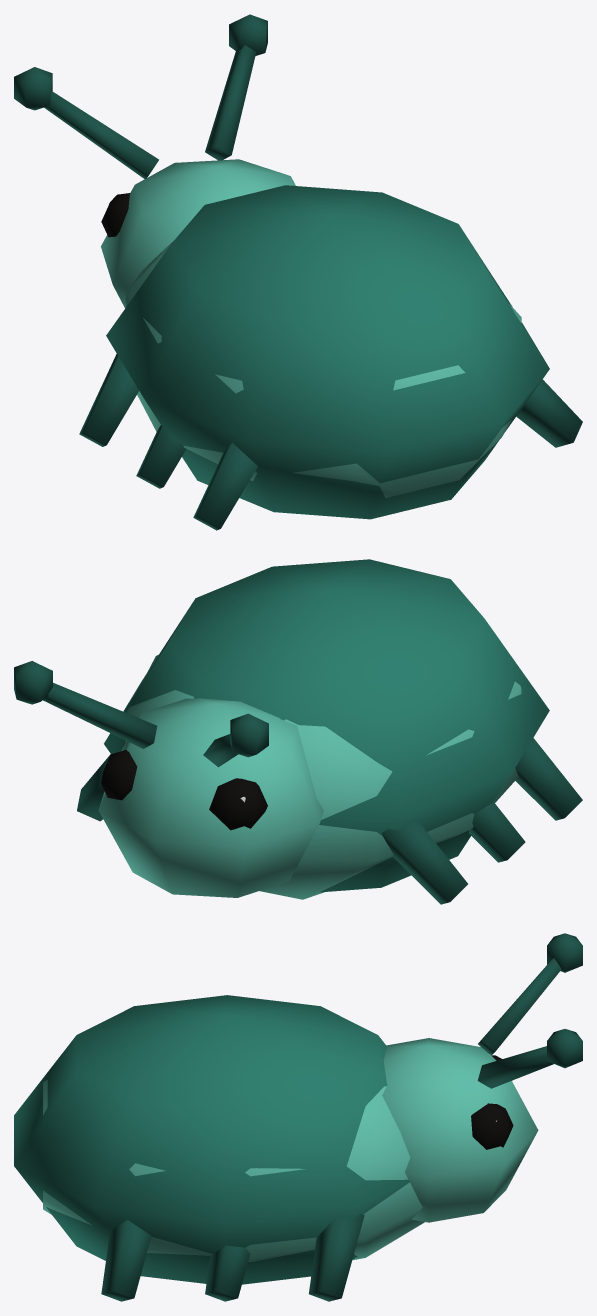
Rendered from Slime_Beetle.glb.
3 views of the same model, one above another, from view 1: azimuth 30°, elevation 25°; view 2: azimuth 150°, elevation 25°; view 3: azimuth 270°, elevation 25° (orthographic). The views are drawn at different scales.
Parts seen in each view (by area): view 1: Slime_Beetle; view 2: Slime_Beetle; view 3: Slime_Beetle.
Part boxes in pixels (box(x1,y1,x2,y2)): Slime_Beetle: box(14, 14, 582, 530); Slime_Beetle: box(14, 559, 582, 904); Slime_Beetle: box(14, 933, 582, 1301).
Bounding box in the file's own units: 0.7024 × 0.5436 × 0.9876.
